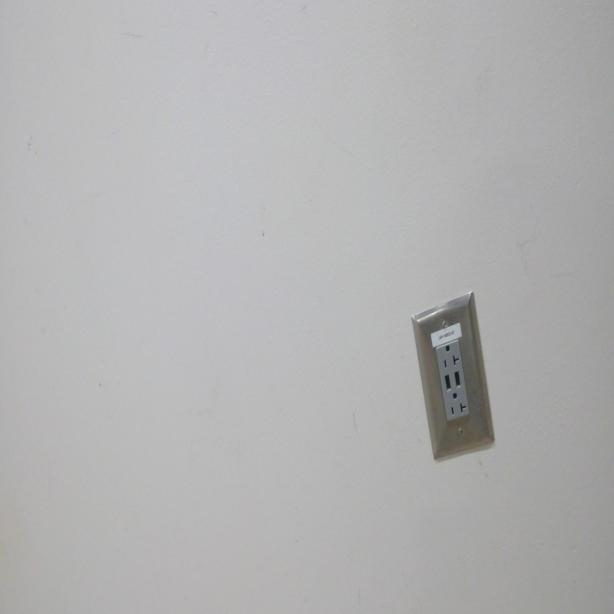typeb: (439, 337, 462, 371), (446, 390, 468, 420)
